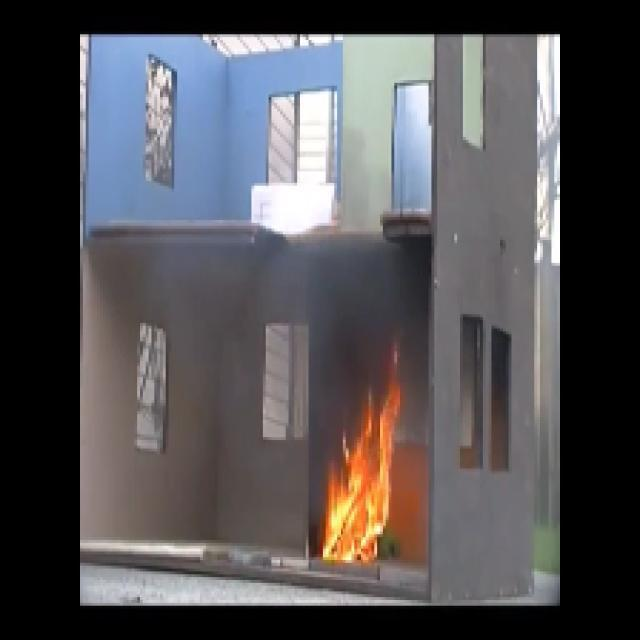Fire: (336, 414, 390, 558)
Smoke: (316, 255, 411, 340)
